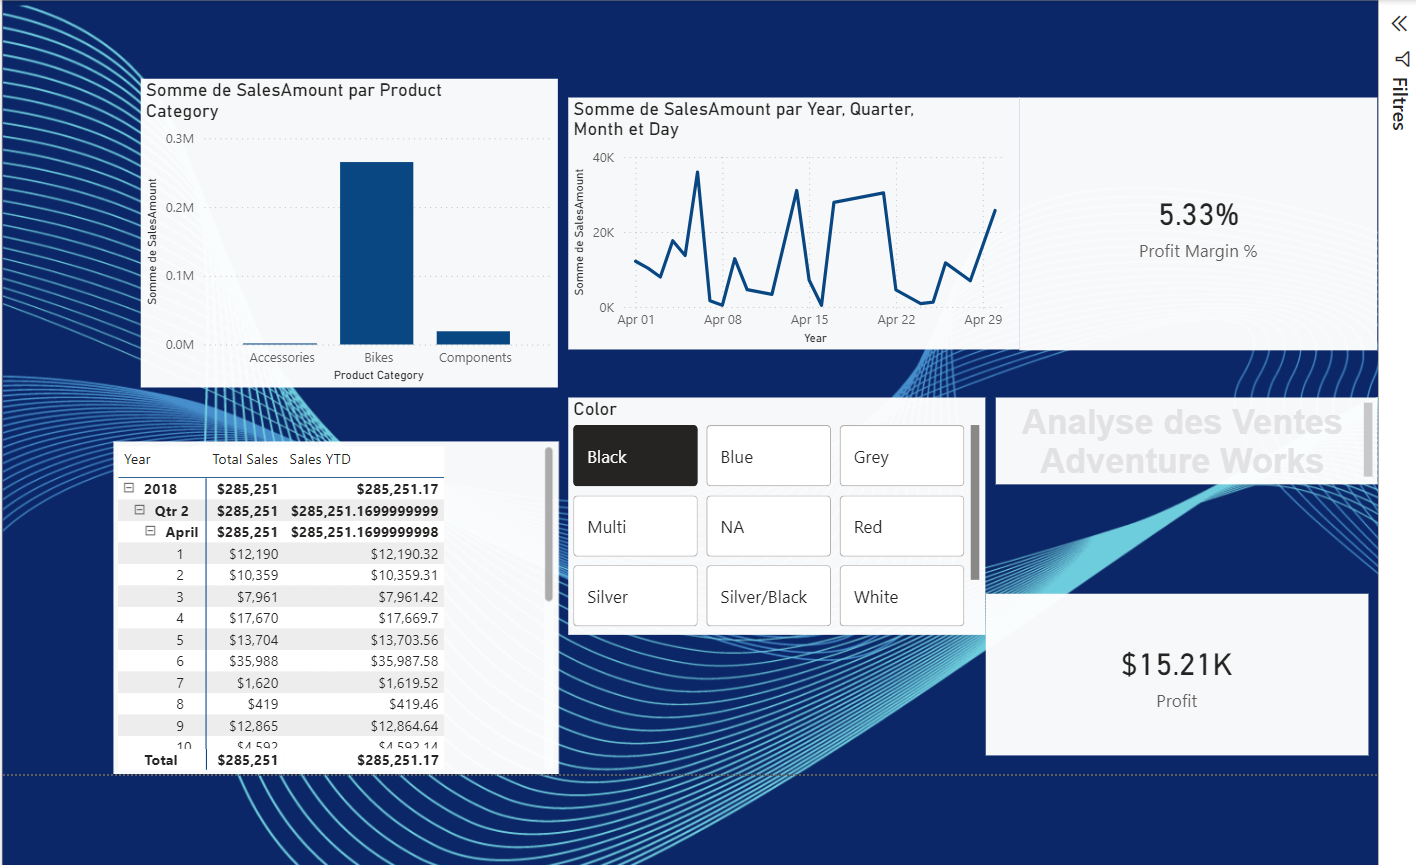

The page's visual inventory and layout, read from the dashboard file:
{"tool":"powerbi","page":{"name":"Page 1","canvas":[1280,720],"ordinal":0},"visuals":[{"type":"clusteredColumnChart","fields":{"Y":["Sum(FactResellerSales.SalesAmount)"],"Category":["DimProduct.Products.Product Category","DimProduct.Products.Product Subcategory","DimProduct.Products.EnglishProductName"]},"box":[129.1,73.3,388.4,287.2],"z":0},{"type":"lineChart","fields":{"Category":["FactResellerSales.OrderDate.Variation.Date Hierarchy.Year","FactResellerSales.OrderDate.Variation.Date Hierarchy.Quarter","FactResellerSales.OrderDate.Variation.Date Hierarchy.Month","FactResellerSales.OrderDate.Variation.Date Hierarchy.Day"],"Y":["Sum(FactResellerSales.SalesAmount)"]},"box":[526.6,90.8,420.3,234.8],"z":1000},{"type":"advancedSlicerVisual","fields":{"Values":["DimProduct.Color"]},"box":[526.6,369.7,387.8,220.5],"z":3000},{"type":"textbox","box":[924.9,369.7,355.4,80.4],"z":4000},{"type":"card","fields":{"Values":["FactResellerSales.Profit"]},"box":[915.1,552.3,355.8,150],"z":4001},{"type":"card","fields":{"Values":["FactResellerSales.Profit Margin %"]},"box":[947,91,333,235],"z":4002},{"type":"pivotTable","fields":{"Rows":["FactResellerSales.OrderDate.Variation.Date Hierarchy.Year","FactResellerSales.OrderDate.Variation.Date Hierarchy.Quarter","FactResellerSales.OrderDate.Variation.Date Hierarchy.Month","FactResellerSales.OrderDate.Variation.Date Hierarchy.Day"],"Values":["FactResellerSales.Total Sales","FactResellerSales.Sales YTD"]},"box":[103,410.4,414.6,310.3],"z":4004}]}

Visuals, with their boxes in screenshot pixels (x1, y1, x2, y2):
clusteredColumnChart - Sum(FactResellerSales.SalesAmount) x DimProduct.Products.Product Category: <box>130,73,554,386</box>
lineChart - FactResellerSales.OrderDate.Variation.Date Hierarchy.Year x FactResellerSales.OrderDate.Variation.Date Hierarchy.Quarter: <box>563,92,1022,348</box>
advancedSlicerVisual - DimProduct.Color: <box>563,396,987,637</box>
textbox: <box>998,396,1386,484</box>
card - FactResellerSales.Profit: <box>987,595,1375,759</box>
card - FactResellerSales.Profit Margin %: <box>1022,92,1385,348</box>
pivotTable - FactResellerSales.OrderDate.Variation.Date Hierarchy.Year x FactResellerSales.OrderDate.Variation.Date Hierarchy.Quarter: <box>101,440,554,779</box>
